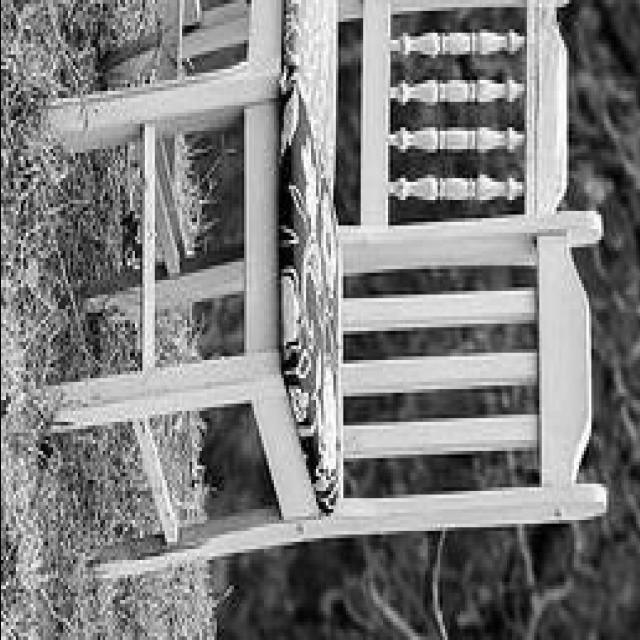chair: (44, 93, 606, 586), (76, 0, 578, 321)
